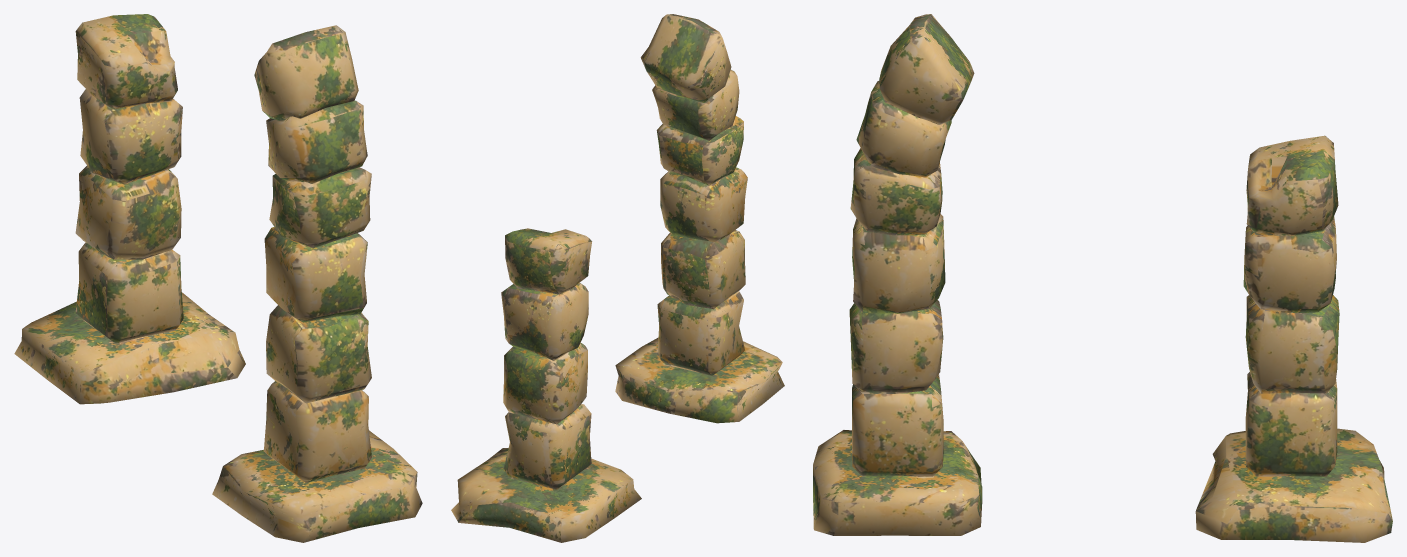
The model's file is arcThingy.glb.
3 views of the same model, side by side, from view 1: azimuth 30°, elevation 25°; view 2: azimuth 150°, elevation 25°; view 3: azimuth 270°, elevation 25° (orthographic). The views are drawn at different scales.
Parts seen in each view (by area): view 1: defaultMaterial; view 2: defaultMaterial; view 3: defaultMaterial.
Part boxes in pixels (x1,y1,x2,y2): defaultMaterial: (14,14,422,542); defaultMaterial: (451,14,784,542); defaultMaterial: (813,14,1392,542).
Bounding box in the file's own units: 0.4577 × 1.22 × 1.33.
1 material, 1 textured.
